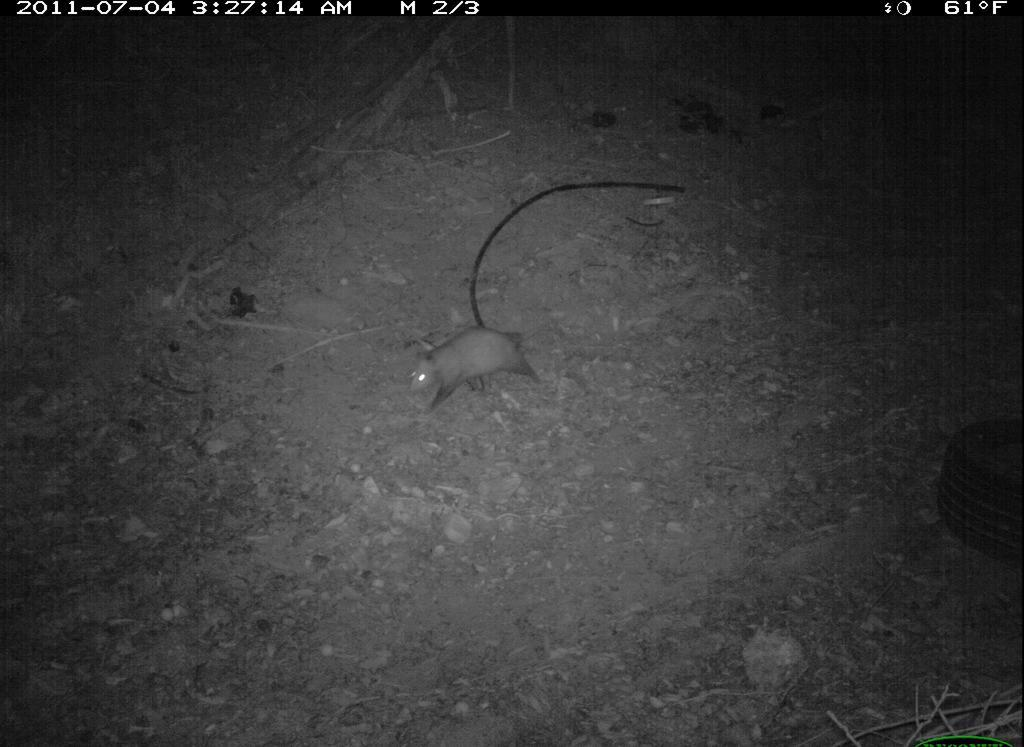opossum: (397, 322, 553, 424)
